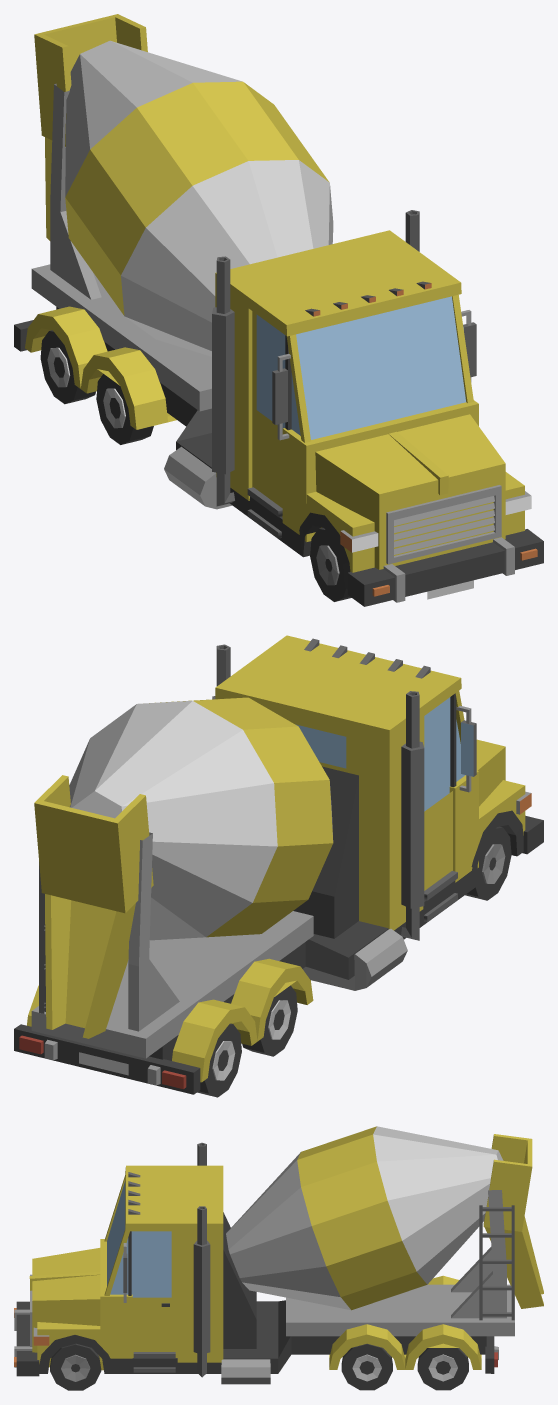
File: transport_truck_008.glb
3 renders of one model, top to bottom at view 1: azimuth 30°, elevation 25°; view 2: azimuth 150°, elevation 25°; view 3: azimuth 270°, elevation 25°, orthographic. The views are drawn at different scales.
Visible parts, largest first — view 1: transport_truck_008; view 2: transport_truck_008; view 3: transport_truck_008.
Part boxes in pixels (x1=…): transport_truck_008: x1=14, y1=14, x2=543, y2=606; transport_truck_008: x1=14, y1=635, x2=543, y2=1097; transport_truck_008: x1=14, y1=1126, x2=543, y2=1390.
Bounding box in the file's own units: 2.13 × 3.22 × 6.75.
1 material, 1 textured.
